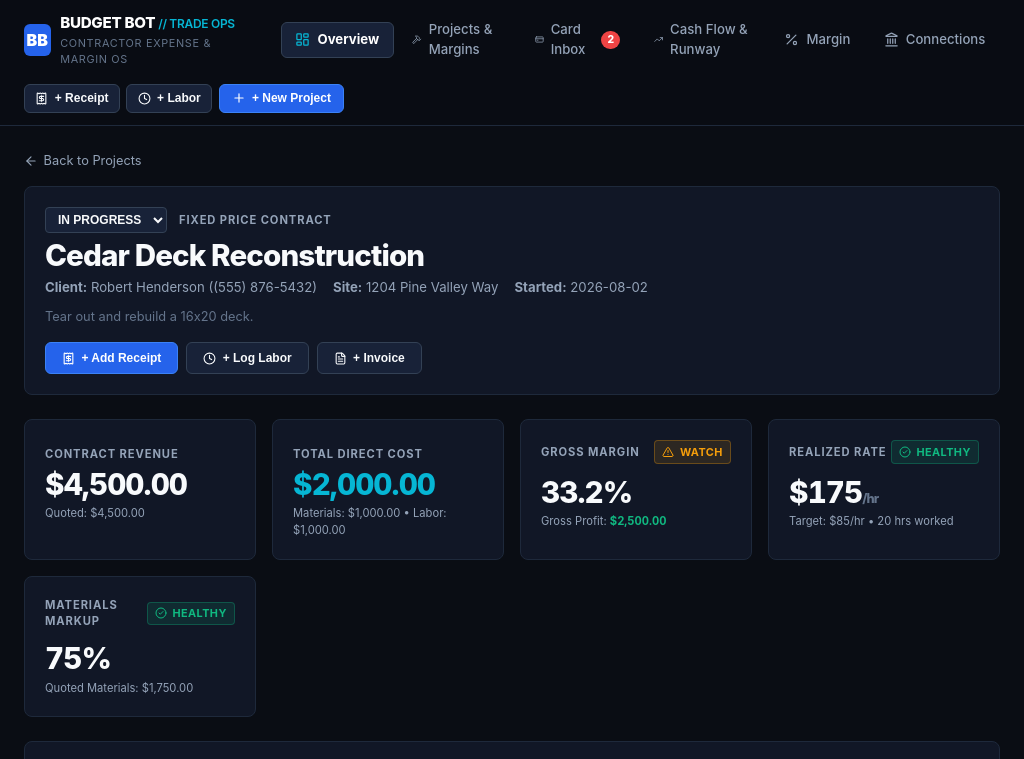
it: ProjectDetailView › shows what an action refused rather than leaving the page looking fine
Select "On Hold" in the dropdown named "project status" at (106, 220), box x1=45 y1=207 x2=167 y2=233
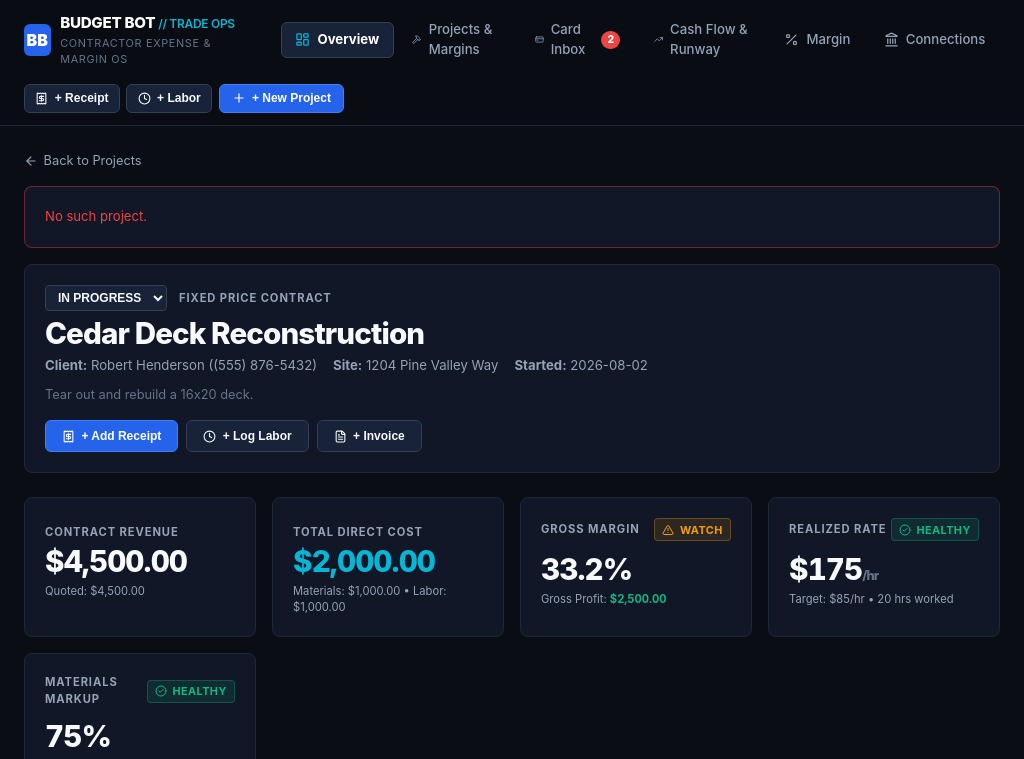
Expected: the message reads "No such project.", x1=45 y1=208 x2=147 y2=224
